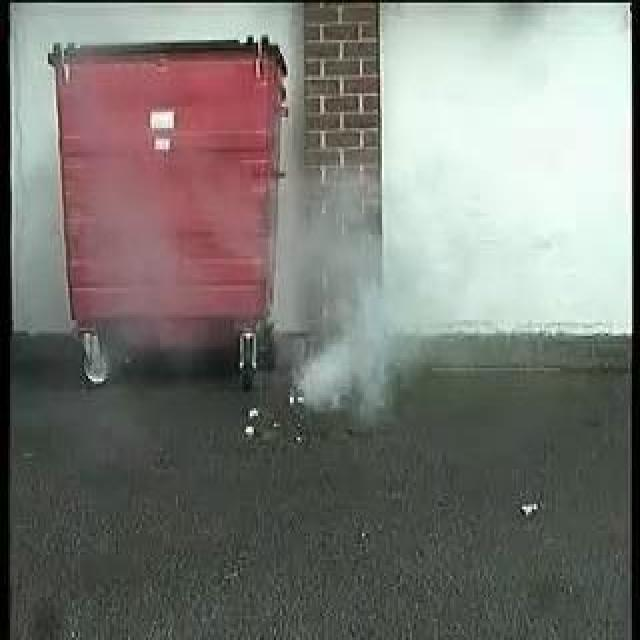Smoke: (293, 278, 423, 406)
